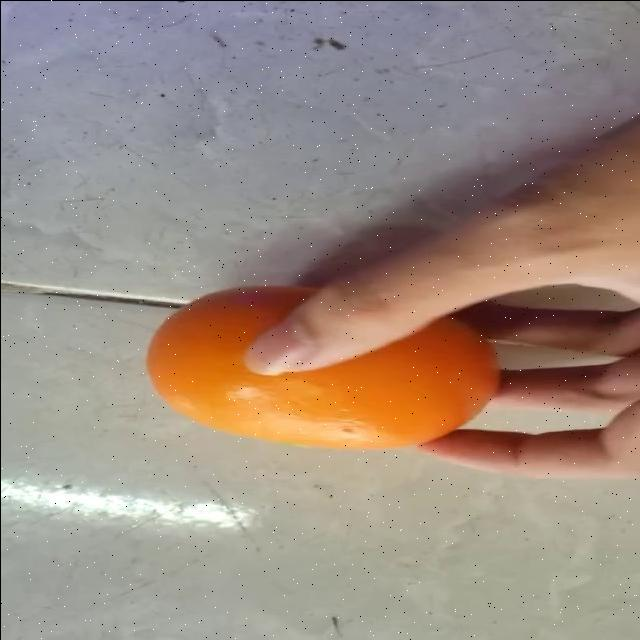Orange: (145, 284, 501, 451)
